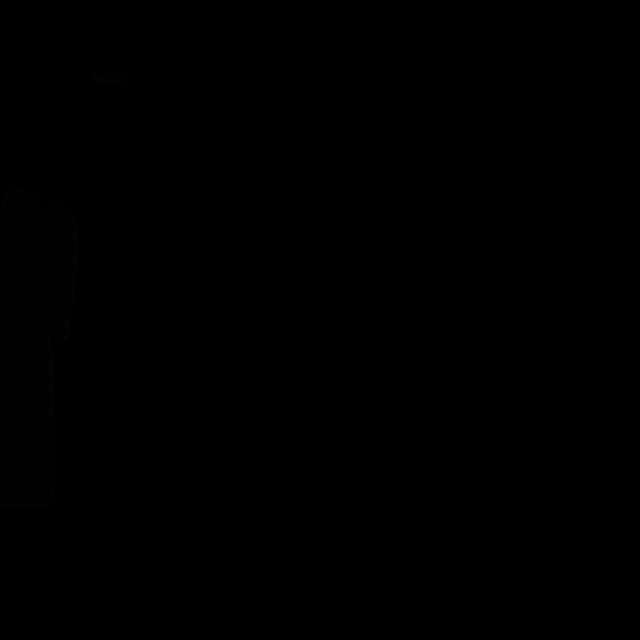cardboard: (0, 183, 79, 509), (92, 70, 133, 89)
